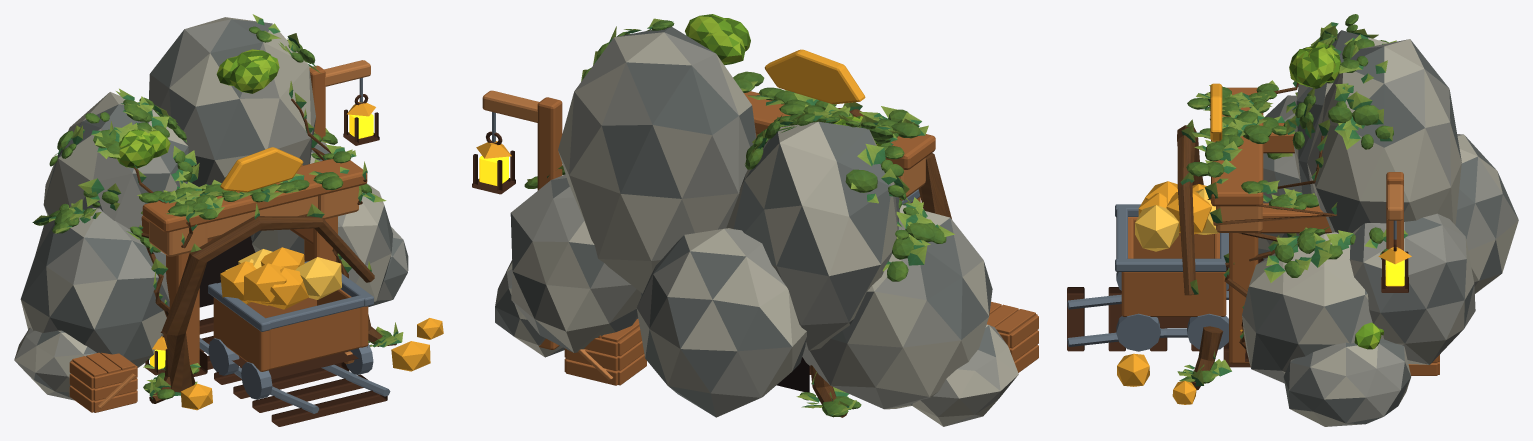
File: gold_mine.glb
The picture shows the model from 3 angles, left to right: view 1: azimuth 30°, elevation 25°; view 2: azimuth 150°, elevation 25°; view 3: azimuth 270°, elevation 25°; orthographic projection. The views are drawn at different scales.
Visible parts, largest first — view 1: Mine outcrop.003, Mine outcrop, Mine outcrop.002, Woodland joint-following vine.006, Mine outcrop.001, Cart end, Mine projecting lintel cap, Mine outcrop.005, Gold mine raised ore emblem, Cart side, Railway timber sleeper, Mine portal upright (+38 smaller); view 2: Mine outcrop.003, Mine outcrop.002, Mine outcrop.007, Mine outcrop, Mine outcrop.004, Mine outcrop.005, Gold mine raised ore emblem, Mine lantern post, Mine projecting lintel cap, Mine outcrop.006, Woodland joint-following vine.006, Mine lantern arm (+10 smaller); view 3: Mine outcrop.003, Mine outcrop.004, Mine outcrop.001, Mine outcrop.006, Mine outcrop.007, Cart side.001, Mine projecting lintel cap, Mine portal upright.001, Woodland joint-following vine.006, Mine outcrop, Mine outcrop.002, Cart gold ore.002 (+25 smaller).
Boxes of the visible parts, x1=… form: Mine outcrop.003: x1=148, y1=17, x2=315, y2=186; Mine outcrop: x1=20, y1=208, x2=169, y2=367; Mine outcrop.002: x1=43, y1=92, x2=191, y2=229; Woodland joint-following vine.006: x1=162, y1=216, x2=374, y2=392; Mine outcrop.001: x1=252, y1=161, x2=392, y2=301; Cart end: x1=269, y1=308, x2=359, y2=369; Mine projecting lintel cap: x1=142, y1=159, x2=367, y2=232; Mine outcrop.005: x1=14, y1=327, x2=96, y2=400; Gold mine raised ore emblem: x1=220, y1=147, x2=303, y2=192; Cart side: x1=213, y1=297, x2=269, y2=371; Railway timber sleeper: x1=271, y1=390, x2=387, y2=426; Mine portal upright: x1=166, y1=252, x2=199, y2=373; Mine outcrop.003: x1=558, y1=27, x2=756, y2=293; Mine outcrop.002: x1=726, y1=121, x2=899, y2=350; Mine outcrop.007: x1=636, y1=228, x2=806, y2=417; Mine outcrop: x1=802, y1=205, x2=992, y2=409; Mine outcrop.004: x1=510, y1=174, x2=642, y2=352; Mine outcrop.005: x1=911, y1=324, x2=1018, y2=426; Gold mine raised ore emblem: x1=764, y1=49, x2=865, y2=104; Mine lantern post: x1=537, y1=97, x2=562, y2=349; Mine projecting lintel cap: x1=744, y1=91, x2=935, y2=169; Mine outcrop.006: x1=495, y1=260, x2=564, y2=357; Woodland joint-following vine.006: x1=838, y1=108, x2=951, y2=218; Mine lantern arm: x1=482, y1=90, x2=538, y2=122; Mine outcrop.003: x1=1307, y1=39, x2=1461, y2=233; Mine outcrop.004: x1=1349, y1=213, x2=1475, y2=364; Mine outcrop.001: x1=1242, y1=232, x2=1383, y2=383; Mine outcrop.006: x1=1283, y1=339, x2=1411, y2=426; Mine outcrop.007: x1=1455, y1=134, x2=1518, y2=293; Cart side.001: x1=1121, y1=272, x2=1226, y2=316; Mine projecting lintel cap: x1=1211, y1=87, x2=1263, y2=206; Mine portal upright.001: x1=1229, y1=233, x2=1258, y2=364; Woodland joint-following vine.006: x1=1177, y1=125, x2=1203, y2=295; Mine outcrop: x1=1258, y1=95, x2=1326, y2=259; Mine outcrop.002: x1=1294, y1=30, x2=1387, y2=194; Cart gold ore.002: x1=1135, y1=205, x2=1178, y2=251.
Size of the model in its own units: 4.56 by 3.28 by 4.15.
19 materials, 4 textured.
